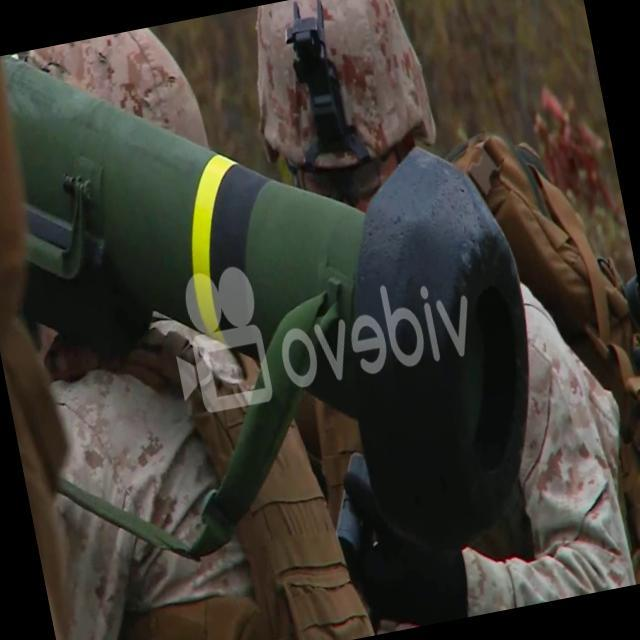rocket: (0, 0, 567, 605)
